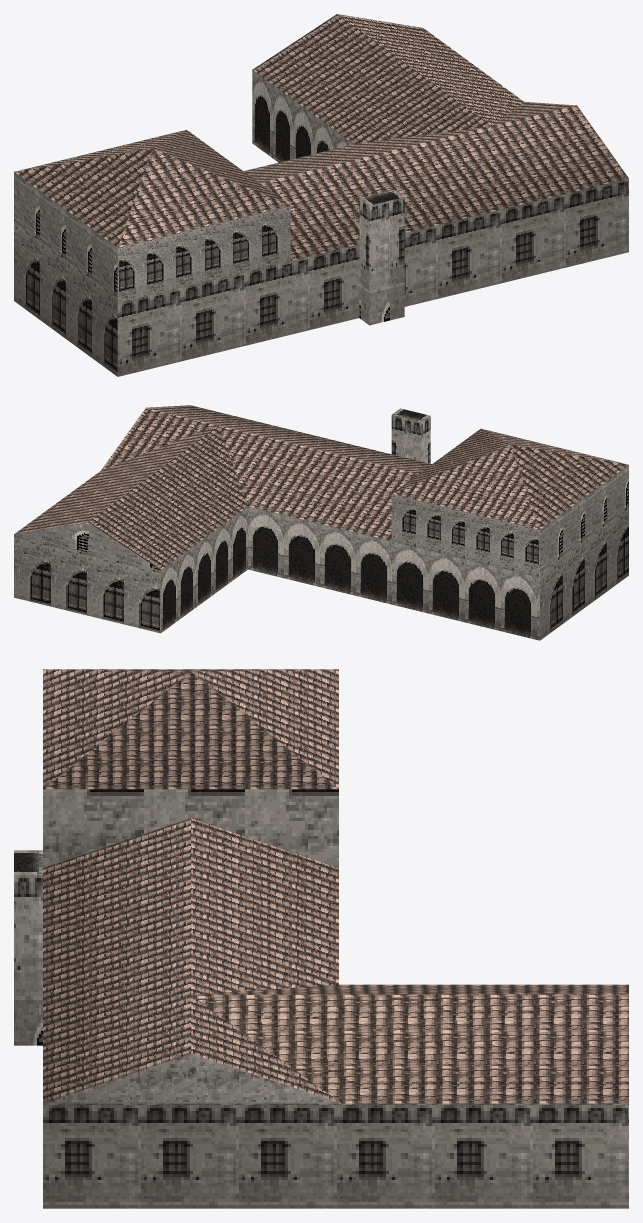
Rendered from uvmd-0080.glb.
3 renders of one model, top to bottom at view 1: azimuth 30°, elevation 25°; view 2: azimuth 150°, elevation 25°; view 3: azimuth 270°, elevation 25°, orthographic. The views are drawn at different scales.
Parts seen in each view (by area): view 1: uvmd-0080; view 2: uvmd-0080; view 3: uvmd-0080.
Part boxes in pixels (left/top/right/bottom): uvmd-0080: left=14, top=14, right=628, bottom=376; uvmd-0080: left=14, top=405, right=628, bottom=640; uvmd-0080: left=14, top=669, right=628, bottom=1208.
Size of the model in its own units: 290 by 92 by 212.
Materials: 2 (2 with a texture image).
